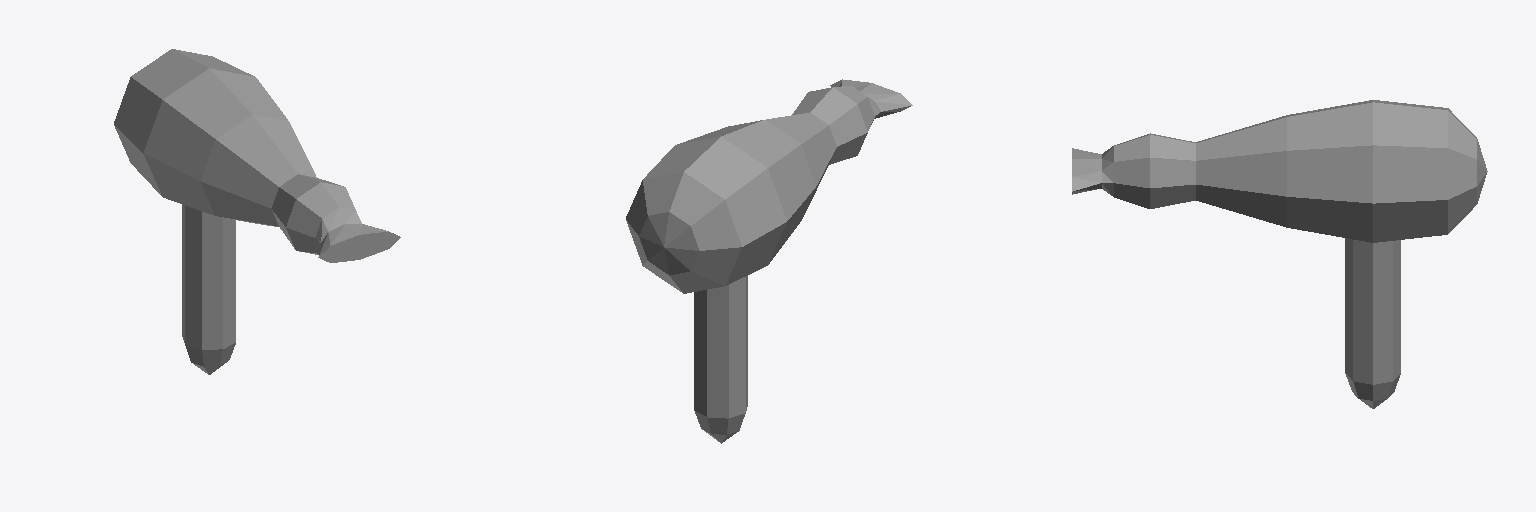
File: Föhn.obj
3 views of the same model, side by side, from view 1: azimuth 30°, elevation 25°; view 2: azimuth 150°, elevation 25°; view 3: azimuth 270°, elevation 25° (orthographic).
Parts seen in each view (by area): view 1: Föhn_Cylinder; view 2: Föhn_Cylinder; view 3: Föhn_Cylinder.
Part boxes in pixels (left/top/right/bottom): Föhn_Cylinder: left=114, top=49, right=400, bottom=374; Föhn_Cylinder: left=626, top=79, right=912, bottom=443; Föhn_Cylinder: left=1072, top=100, right=1487, bottom=408.
Bounding box in the file's own units: 0.0655 × 0.1457 × 0.1785.